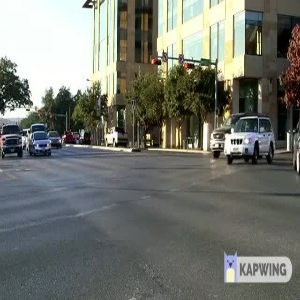car: (24, 129, 57, 158)
suv: (223, 115, 277, 167)
truck: (1, 123, 26, 158), (104, 124, 132, 150)
